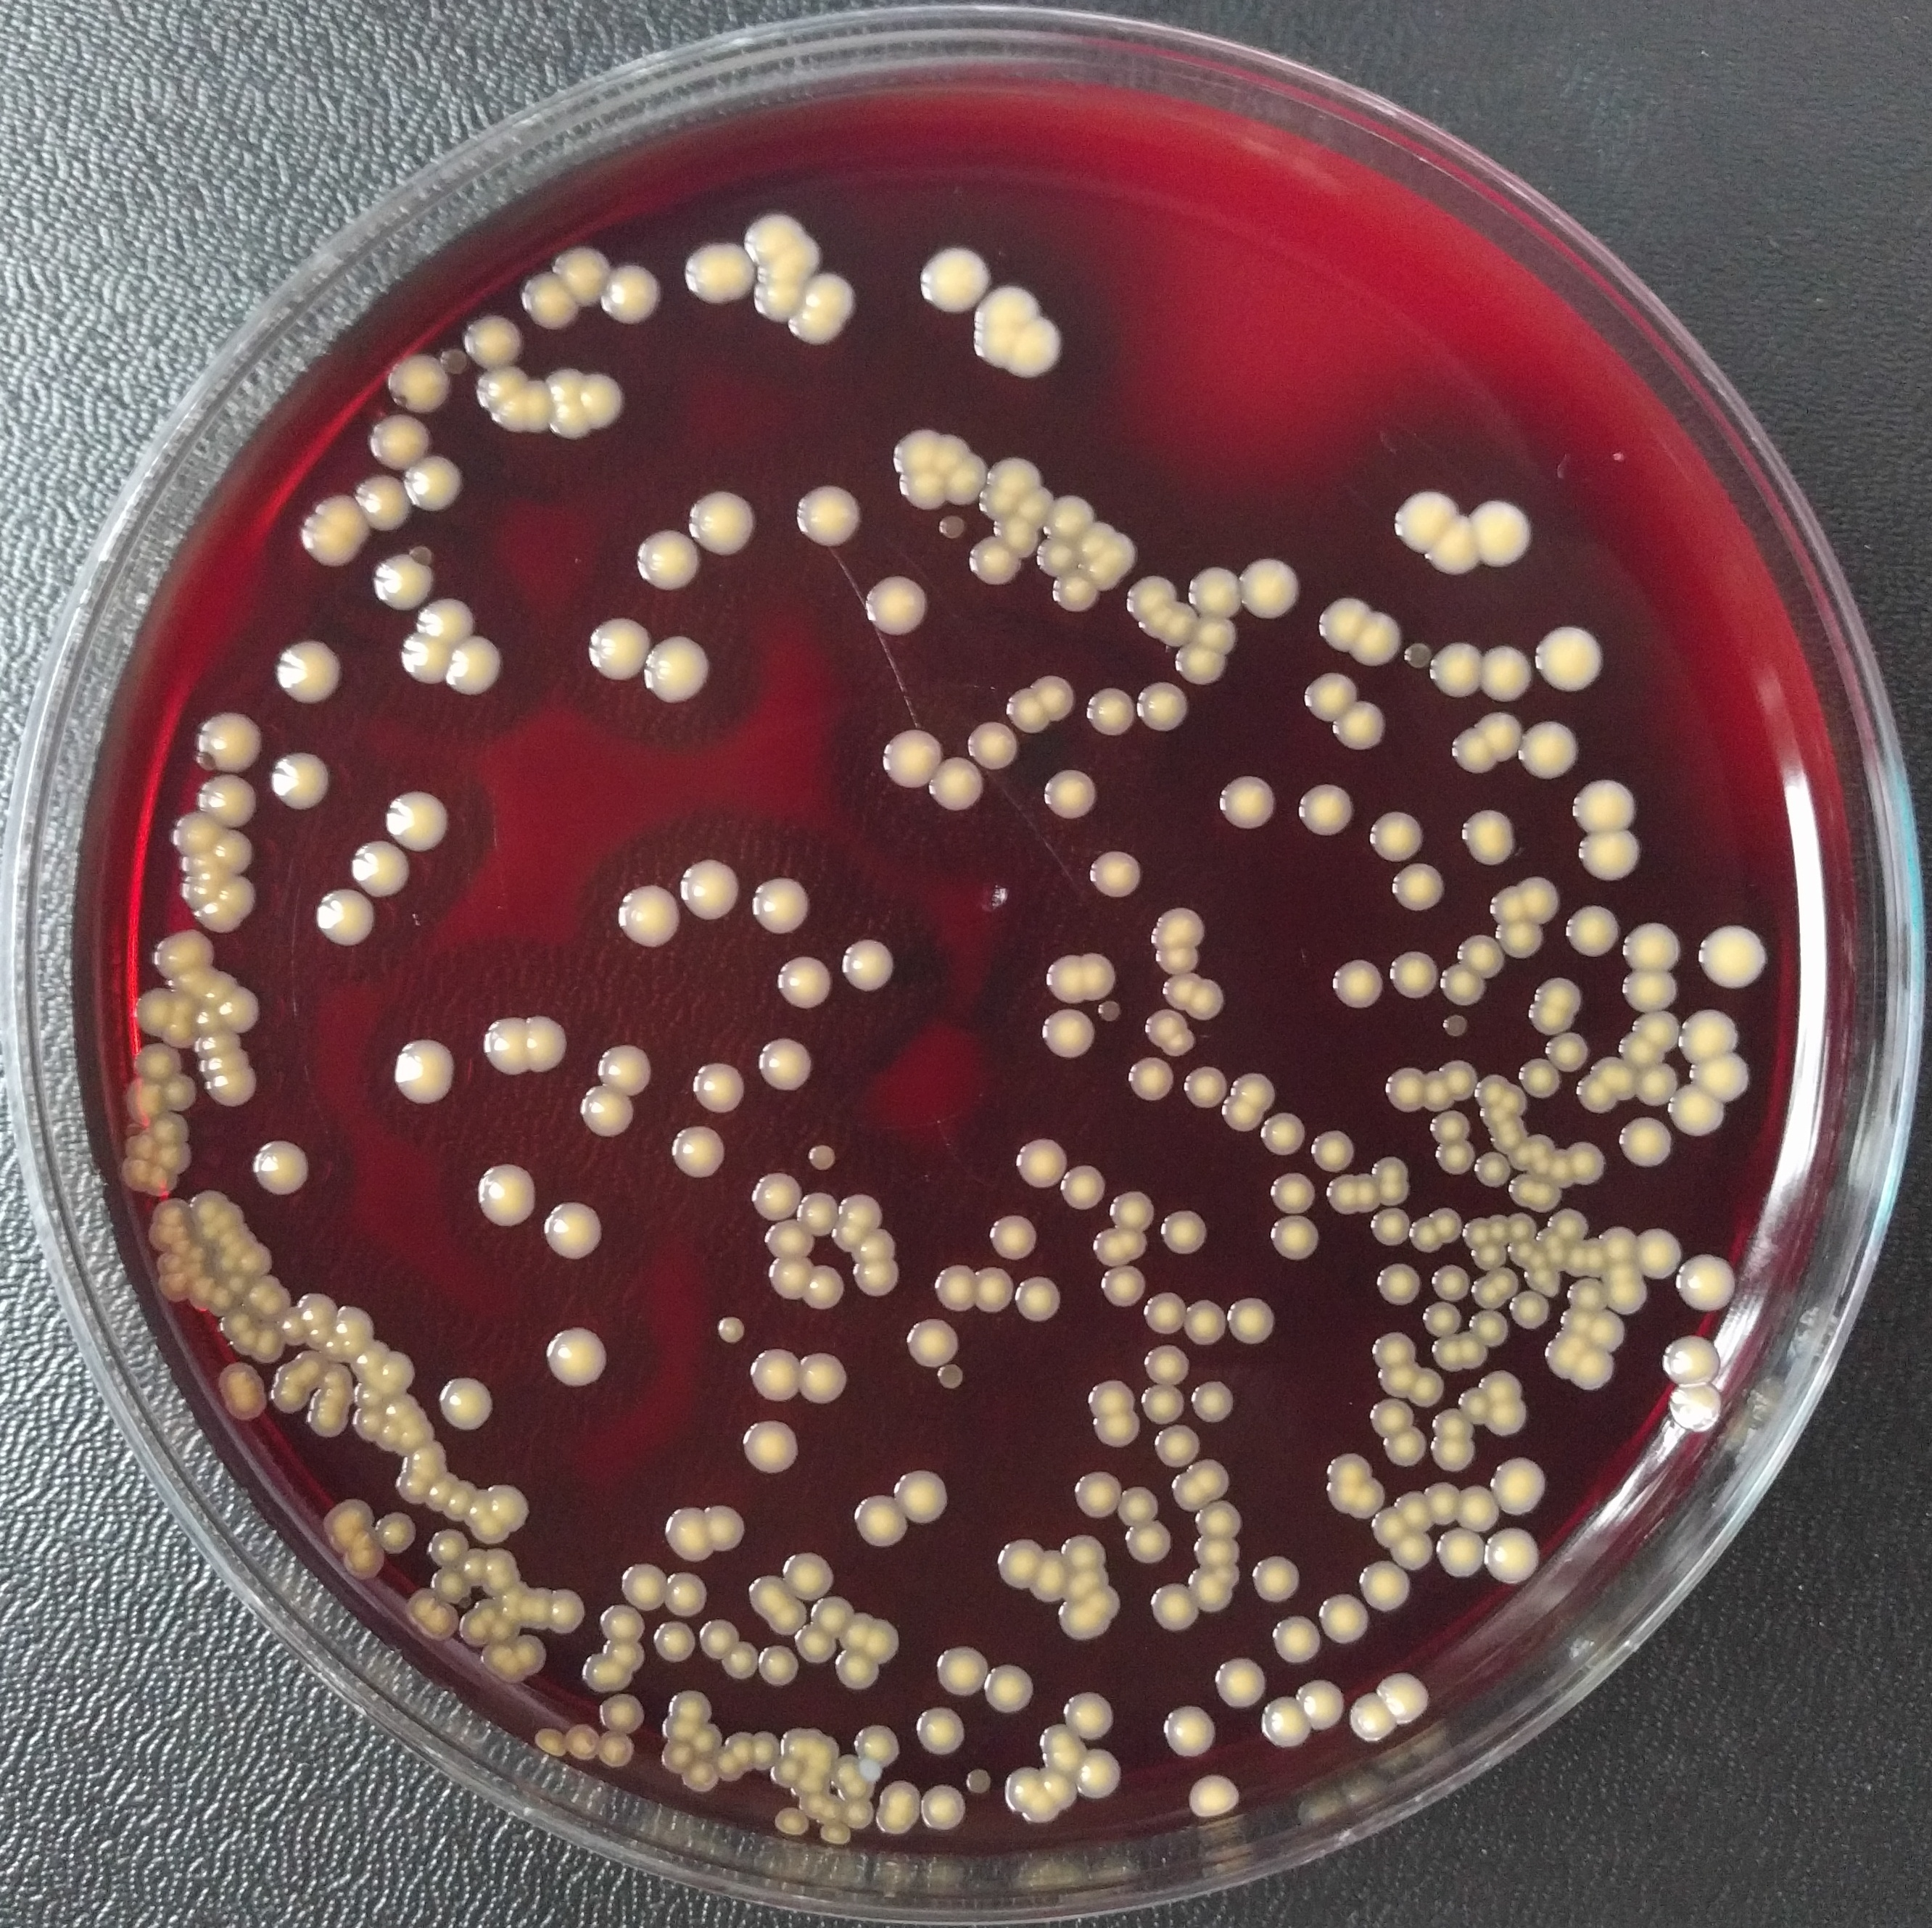sp21: (680, 237, 752, 323), (639, 630, 717, 710), (1386, 486, 1462, 558), (1535, 621, 1607, 696), (540, 1319, 611, 1395), (878, 722, 947, 800), (613, 876, 683, 950), (585, 616, 653, 689), (272, 636, 341, 708), (922, 244, 991, 314), (1238, 556, 1307, 627), (390, 1040, 461, 1109), (380, 350, 454, 415), (1694, 923, 1768, 989), (634, 524, 703, 593), (599, 260, 662, 334), (689, 489, 758, 556), (385, 787, 454, 855), (795, 482, 865, 547), (192, 710, 263, 775), (309, 885, 378, 950), (751, 1031, 819, 1096), (862, 574, 931, 637), (443, 630, 507, 699), (366, 413, 434, 477), (540, 1197, 604, 1264), (678, 853, 736, 925), (350, 837, 413, 902), (268, 752, 334, 816), (373, 551, 440, 613), (1425, 510, 1485, 579), (751, 872, 812, 938), (738, 1416, 804, 1478), (1671, 1250, 1736, 1312), (519, 270, 579, 337), (350, 473, 419, 531), (1478, 498, 1535, 569), (1570, 775, 1641, 832), (1344, 606, 1407, 667), (403, 452, 464, 516), (553, 242, 615, 305), (1213, 772, 1279, 832), (291, 516, 358, 574), (1008, 320, 1070, 381), (772, 950, 832, 1013), (1307, 595, 1372, 653), (477, 1162, 535, 1227), (1379, 1668, 1438, 1734), (461, 311, 530, 365), (581, 369, 634, 440), (835, 934, 897, 994), (689, 1058, 749, 1119), (194, 773, 260, 830), (1491, 1451, 1545, 1518), (410, 595, 480, 646), (1685, 1052, 1755, 1103), (1033, 1006, 1097, 1063), (1658, 1333, 1731, 1382), (970, 309, 1024, 374), (1460, 805, 1513, 872), (1298, 779, 1356, 839), (1037, 766, 1097, 825), (671, 1125, 729, 1185), (577, 1084, 638, 1142), (1300, 673, 1362, 729), (1478, 641, 1535, 703), (747, 1344, 804, 1405), (1619, 918, 1683, 973), (970, 284, 1044, 330), (309, 486, 378, 535), (925, 752, 984, 810), (1353, 1559, 1411, 1617), (1522, 719, 1582, 775), (1160, 1702, 1217, 1762), (1208, 1656, 1268, 1713), (1487, 1529, 1542, 1591), (1614, 1116, 1676, 1171), (961, 537, 1024, 590), (1676, 1010, 1740, 1063), (214, 1361, 267, 1425), (1430, 637, 1482, 703), (662, 1501, 713, 1566), (477, 362, 535, 418), (998, 685, 1058, 740), (254, 1137, 309, 1197), (895, 1467, 950, 1527), (1582, 828, 1644, 881), (1189, 560, 1241, 621), (1310, 1591, 1372, 1644), (1148, 1578, 1199, 1642), (800, 1347, 849, 1412), (597, 1040, 653, 1096), (440, 1379, 496, 1435), (982, 1660, 1038, 1716), (1187, 1769, 1243, 1826), (851, 1492, 906, 1550), (1669, 1084, 1727, 1139), (962, 719, 1023, 772), (321, 1494, 374, 1554), (743, 208, 805, 260), (519, 1013, 570, 1075), (150, 929, 219, 975), (1257, 1690, 1307, 1753), (756, 233, 821, 281), (1392, 860, 1450, 913), (1086, 847, 1144, 900), (1086, 683, 1137, 743), (984, 1209, 1044, 1261), (938, 1642, 989, 1702), (747, 279, 809, 328), (484, 1012, 528, 1081), (1296, 1674, 1344, 1737), (1144, 902, 1208, 950), (1370, 807, 1425, 862), (782, 1548, 837, 1603), (1565, 904, 1619, 959), (1125, 572, 1181, 625), (1332, 957, 1385, 1013), (901, 1317, 961, 1367), (1010, 1137, 1065, 1190), (1125, 1058, 1178, 1112), (1136, 682, 1192, 733), (1333, 699, 1390, 750), (1058, 1156, 1109, 1213), (782, 311, 853, 351), (1047, 565, 1100, 618), (994, 1531, 1038, 1594), (1070, 1467, 1123, 1520), (1063, 1688, 1116, 1741), (1040, 489, 1097, 538), (987, 516, 1044, 565), (1040, 950, 1088, 1008), (1254, 1112, 1312, 1160), (1081, 1744, 1123, 1810), (1250, 1554, 1303, 1605), (1266, 1215, 1319, 1266), (913, 1709, 968, 1759), (1270, 1615, 1324, 1665), (1178, 1058, 1227, 1112), (1388, 948, 1436, 1005), (1453, 930, 1510, 978), (761, 1215, 819, 1261), (1189, 1495, 1247, 1541), (1439, 1525, 1485, 1584), (929, 1264, 978, 1317), (581, 1647, 643, 1690), (1372, 1261, 1425, 1310), (800, 270, 855, 318), (487, 383, 535, 438), (1028, 1543, 1068, 1607), (1227, 1296, 1277, 1347), (892, 426, 940, 478), (752, 1171, 800, 1224), (1169, 641, 1224, 687), (706, 1501, 752, 1555), (1153, 1423, 1208, 1469), (1478, 710, 1522, 766), (987, 456, 1045, 498), (924, 1781, 966, 1840), (1264, 1167, 1314, 1216), (399, 634, 447, 685), (1015, 1275, 1067, 1322), (1097, 1266, 1150, 1312), (1438, 962, 1491, 1008), (662, 1570, 706, 1624), (1672, 1384, 1717, 1439), (1383, 1065, 1425, 1121), (170, 812, 228, 853), (1446, 726, 1496, 773), (618, 1564, 668, 1612), (1160, 1208, 1211, 1254), (1107, 1183, 1158, 1229), (1189, 1377, 1241, 1421), (1353, 1693, 1397, 1746), (1639, 1225, 1683, 1278), (1619, 971, 1679, 1010), (853, 1718, 901, 1766), (1582, 1307, 1630, 1354), (1088, 528, 1137, 574), (1143, 1287, 1189, 1337), (1570, 1347, 1619, 1393), (1058, 1608, 1116, 1647), (1607, 1264, 1651, 1315), (763, 1257, 816, 1299), (758, 1644, 800, 1697), (171, 969, 242, 1001), (1392, 1480, 1429, 1540), (975, 1264, 1015, 1319), (1113, 1483, 1160, 1529), (1635, 1061, 1681, 1109), (1591, 1056, 1637, 1103), (1529, 976, 1591, 1012), (1033, 671, 1075, 722), (849, 1261, 901, 1303), (491, 1481, 533, 1533), (1037, 537, 1084, 581), (835, 1186, 883, 1231), (804, 1594, 851, 1638), (1372, 1359, 1420, 1404), (374, 1511, 419, 1559), (1632, 1010, 1681, 1052), (1139, 1345, 1190, 1386), (339, 1541, 390, 1582), (205, 1068, 256, 1109), (652, 1617, 691, 1670), (1088, 1411, 1141, 1450), (1083, 1377, 1137, 1414), (1127, 1522, 1173, 1566), (1185, 1573, 1231, 1617), (1517, 1056, 1563, 1100), (217, 987, 263, 1031), (897, 475, 947, 516), (219, 872, 260, 922), (187, 902, 244, 938), (134, 987, 173, 1038), (1189, 1294, 1226, 1347), (1425, 1437, 1478, 1474), (1570, 1141, 1607, 1194), (835, 1649, 879, 1693), (1596, 1222, 1641, 1266), (1063, 1531, 1109, 1573), (125, 1079, 168, 1125), (804, 1266, 844, 1314), (1144, 1377, 1185, 1425), (1385, 1536, 1432, 1577), (1543, 1031, 1591, 1072), (214, 830, 254, 877), (1173, 1464, 1208, 1518), (1194, 1557, 1245, 1594), (526, 371, 553, 441), (1143, 1003, 1185, 1047), (1517, 877, 1559, 922), (1575, 1073, 1618, 1118), (553, 1584, 588, 1637), (397, 1439, 450, 1474), (1309, 1128, 1355, 1169), (1187, 976, 1227, 1022), (1148, 946, 1210, 976), (597, 1693, 645, 1732), (1005, 1766, 1044, 1813), (1017, 1790, 1065, 1829), (1362, 1400, 1420, 1432), (1425, 1474, 1459, 1529), (1369, 1329, 1418, 1367), (795, 1192, 839, 1232), (853, 1224, 897, 1264), (743, 1571, 784, 1615), (1231, 1068, 1275, 1109), (721, 1635, 759, 1681), (1185, 1462, 1231, 1501), (1457, 1480, 1496, 1525), (1494, 925, 1547, 959), (129, 1043, 182, 1077), (1377, 1432, 1425, 1469), (1217, 1098, 1264, 1135), (426, 1471, 463, 1518), (864, 1614, 899, 1663), (763, 1600, 812, 1635), (666, 1688, 715, 1723), (1614, 1033, 1669, 1065), (927, 431, 970, 471), (1370, 1206, 1413, 1246), (599, 1603, 645, 1640), (1489, 881, 1526, 927), (1056, 1571, 1113, 1601), (1030, 1718, 1077, 1753), (1483, 1400, 1531, 1435), (1528, 1003, 1575, 1038), (869, 1780, 922, 1811), (381, 1349, 417, 1397), (1436, 1137, 1476, 1178), (562, 1721, 604, 1760), (1038, 1746, 1081, 1785), (1347, 1476, 1386, 1518), (1429, 1262, 1471, 1301), (542, 365, 586, 403), (777, 1723, 821, 1760), (1443, 1052, 1475, 1103), (796, 1621, 832, 1667), (1323, 1172, 1358, 1218), (1157, 976, 1204, 1010), (1194, 1536, 1247, 1566), (1084, 1225, 1125, 1264), (1369, 1504, 1409, 1543), (1466, 1308, 1506, 1347), (1510, 1294, 1551, 1333), (1469, 1072, 1510, 1111), (419, 1605, 459, 1644), (597, 1732, 634, 1774), (1422, 1299, 1464, 1337), (431, 1568, 473, 1605), (547, 411, 592, 447), (1547, 1206, 1591, 1241), (1476, 1146, 1512, 1190), (1086, 945, 1114, 999), (1427, 1409, 1478, 1439), (516, 1635, 547, 1683), (427, 1525, 466, 1564), (392, 1467, 431, 1506), (1407, 1367, 1445, 1407), (399, 1585, 436, 1626), (943, 470, 978, 512), (1478, 1367, 1522, 1400), (449, 1474, 477, 1525), (602, 1642, 641, 1679), (682, 1760, 721, 1797), (161, 1073, 198, 1112), (1545, 1342, 1579, 1384), (1406, 1213, 1439, 1255), (768, 1804, 811, 1838), (703, 1615, 735, 1660), (1432, 1202, 1460, 1252), (1455, 1390, 1494, 1425), (1429, 1337, 1464, 1375), (713, 1310, 754, 1344), (189, 1033, 244, 1058), (189, 1190, 231, 1222), (1459, 1329, 1489, 1374), (468, 1515, 512, 1545), (804, 1142, 839, 1179), (1323, 1451, 1372, 1478), (726, 1725, 752, 1774), (302, 1291, 337, 1328), (1469, 1275, 1508, 1308), (337, 1305, 376, 1338), (1429, 1112, 1471, 1142), (152, 1112, 194, 1142), (752, 1727, 779, 1774), (270, 1381, 306, 1416), (473, 1642, 510, 1676), (237, 1243, 275, 1275), (118, 1156, 150, 1195), (1466, 1241, 1506, 1271), (152, 1144, 194, 1172), (1570, 1278, 1607, 1310), (1425, 1068, 1450, 1116), (147, 1199, 191, 1225), (380, 1390, 419, 1420), (662, 1714, 701, 1744), (1369, 1155, 1409, 1183), (934, 1363, 968, 1397), (1498, 1084, 1531, 1118), (532, 1725, 563, 1760), (660, 1743, 692, 1778), (689, 1723, 721, 1759), (878, 1811, 920, 1838), (1037, 1769, 1074, 1799), (1526, 1266, 1565, 1294), (459, 1608, 487, 1647), (394, 1421, 438, 1446), (187, 1275, 212, 1319), (1160, 1029, 1201, 1056), (816, 1820, 857, 1847), (148, 1224, 189, 1250), (258, 1322, 284, 1363), (1116, 1231, 1148, 1264), (258, 1285, 290, 1319), (964, 1762, 994, 1797), (351, 1409, 381, 1444), (309, 1411, 344, 1441), (208, 1284, 238, 1319), (502, 1653, 530, 1690), (178, 879, 215, 908), (533, 1582, 553, 1635), (196, 1051, 254, 1068), (1356, 1172, 1379, 1216), (178, 853, 223, 876), (719, 1746, 743, 1787), (484, 1573, 521, 1600), (1529, 1130, 1554, 1169), (1558, 1307, 1589, 1337), (295, 1351, 327, 1381), (157, 1275, 187, 1307), (1324, 1480, 1353, 1513), (1535, 1178, 1563, 1211), (770, 1757, 798, 1790), (214, 1222, 251, 1246), (795, 1789, 832, 1813), (1505, 1174, 1535, 1204), (148, 1165, 178, 1195), (811, 1737, 844, 1764), (1377, 1179, 1411, 1206), (1508, 1209, 1535, 1243), (1510, 1139, 1536, 1172), (841, 1776, 876, 1801), (466, 1547, 487, 1587), (283, 1310, 306, 1347), (1489, 1269, 1519, 1298), (834, 1225, 860, 1257), (1464, 1215, 1491, 1246), (486, 1548, 521, 1571), (120, 1133, 155, 1156), (1441, 1012, 1469, 1040), (832, 1755, 862, 1781), (214, 1201, 245, 1225), (321, 1363, 353, 1388), (1552, 1146, 1570, 1190), (475, 1481, 496, 1517), (357, 1381, 385, 1407), (796, 1767, 826, 1792), (231, 1328, 256, 1358), (353, 1354, 381, 1379), (275, 1361, 306, 1384), (378, 1423, 399, 1455), (223, 1236, 260, 1254), (394, 1409, 427, 1428), (1097, 1001, 1125, 1024), (1568, 1246, 1591, 1275), (491, 1617, 516, 1642), (1586, 1245, 1604, 1278), (1478, 1109, 1526, 1121), (192, 1006, 217, 1029), (307, 1328, 334, 1349), (311, 1397, 350, 1411), (1489, 1213, 1506, 1243), (212, 1254, 237, 1275), (311, 1386, 351, 1398), (228, 1275, 251, 1296), (1508, 1245, 1531, 1266), (523, 1585, 533, 1628), (247, 1282, 265, 1307), (155, 1254, 182, 1269), (341, 1338, 364, 1354), (327, 1338, 341, 1361), (198, 1222, 215, 1238), (1549, 1250, 1566, 1266), (1540, 1234, 1559, 1248), (189, 1243, 207, 1257), (187, 1264, 207, 1277), (171, 1239, 191, 1250), (1526, 1254, 1543, 1264)
